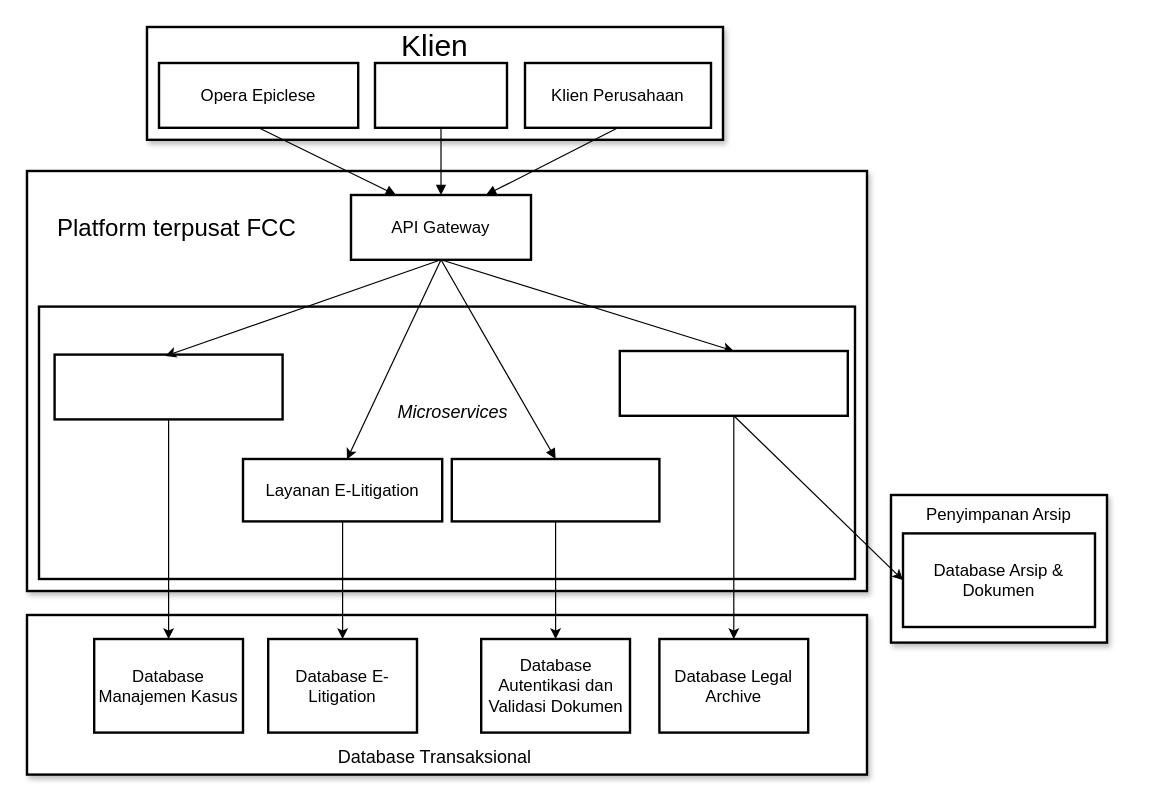
The diagram is 1163 pixels wide and 804 high, and some of its shapes have lost their labels. Each missing label, with the centre of its shape:
Gardes: point 440,94
Layanan Autentikasi & Validasi Dokumen: point 555,489
Layanan Digital Legal Archive: point 733,382
Layanan Manajemen Kasus: point 168,386
